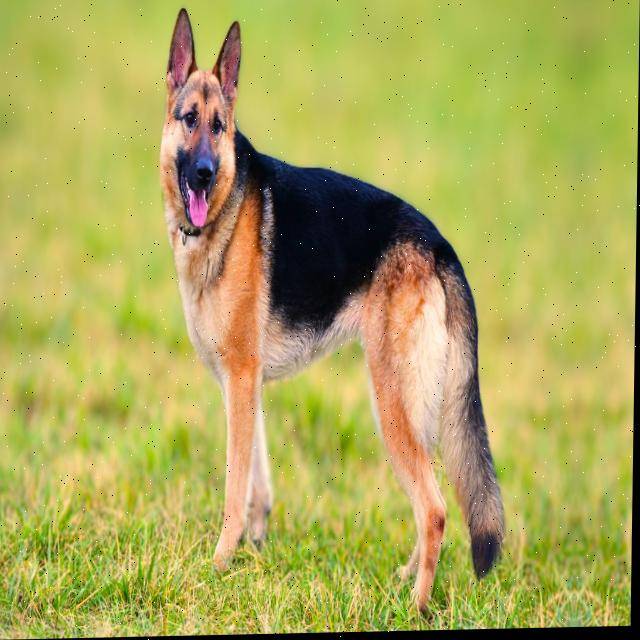GERMAN_SHEPHERD: (152, 0, 521, 634)
